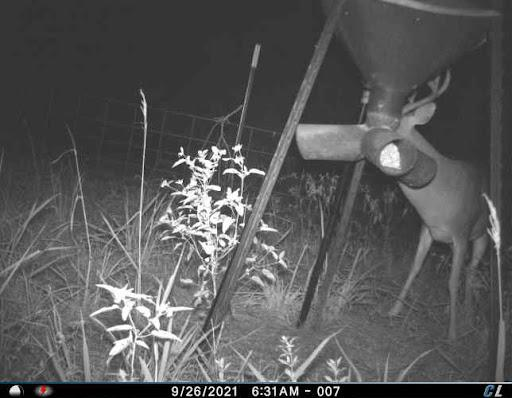Deer: (327, 68, 499, 350)
